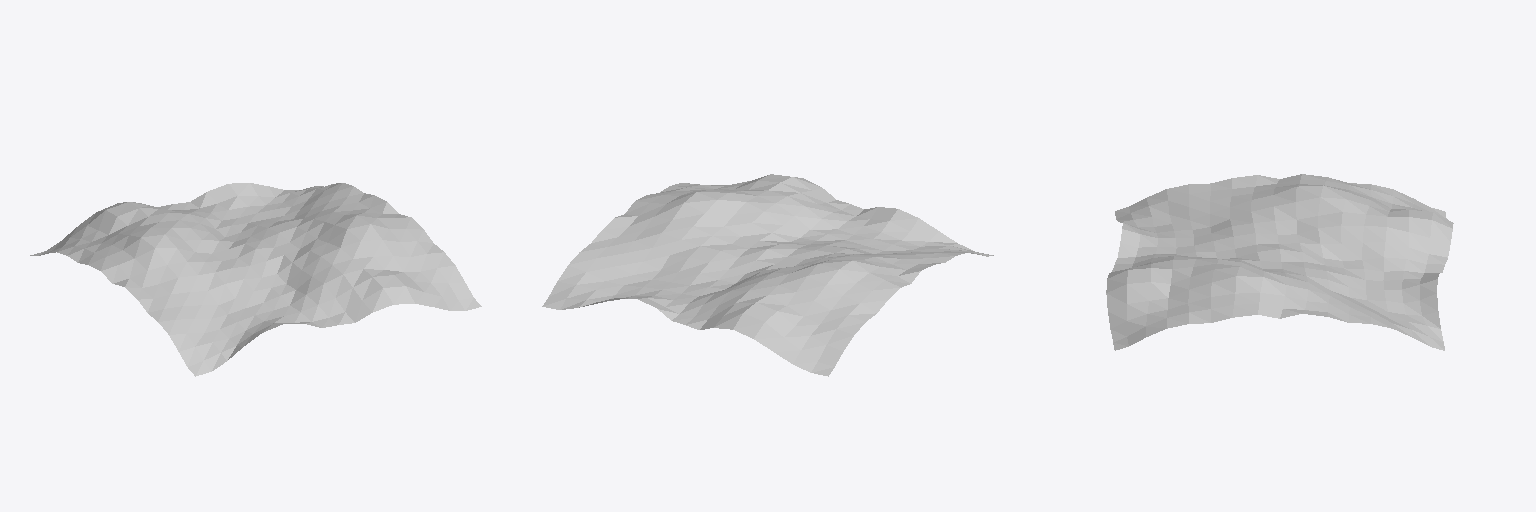
Rendered from water_000163.obj.
3 renders of one model, left to right at view 1: azimuth 30°, elevation 25°; view 2: azimuth 150°, elevation 25°; view 3: azimuth 270°, elevation 25°, orthographic.
Visible parts, largest first — view 1: Plan.003_Plan.001; view 2: Plan.003_Plan.001; view 3: Plan.003_Plan.001.
Part boxes in pixels (bbox=[...]): Plan.003_Plan.001: bbox=[30, 183, 481, 376]; Plan.003_Plan.001: bbox=[542, 174, 993, 376]; Plan.003_Plan.001: bbox=[1106, 174, 1453, 350].
Bounding box in the file's own units: 60755 × 10129 × 63354.